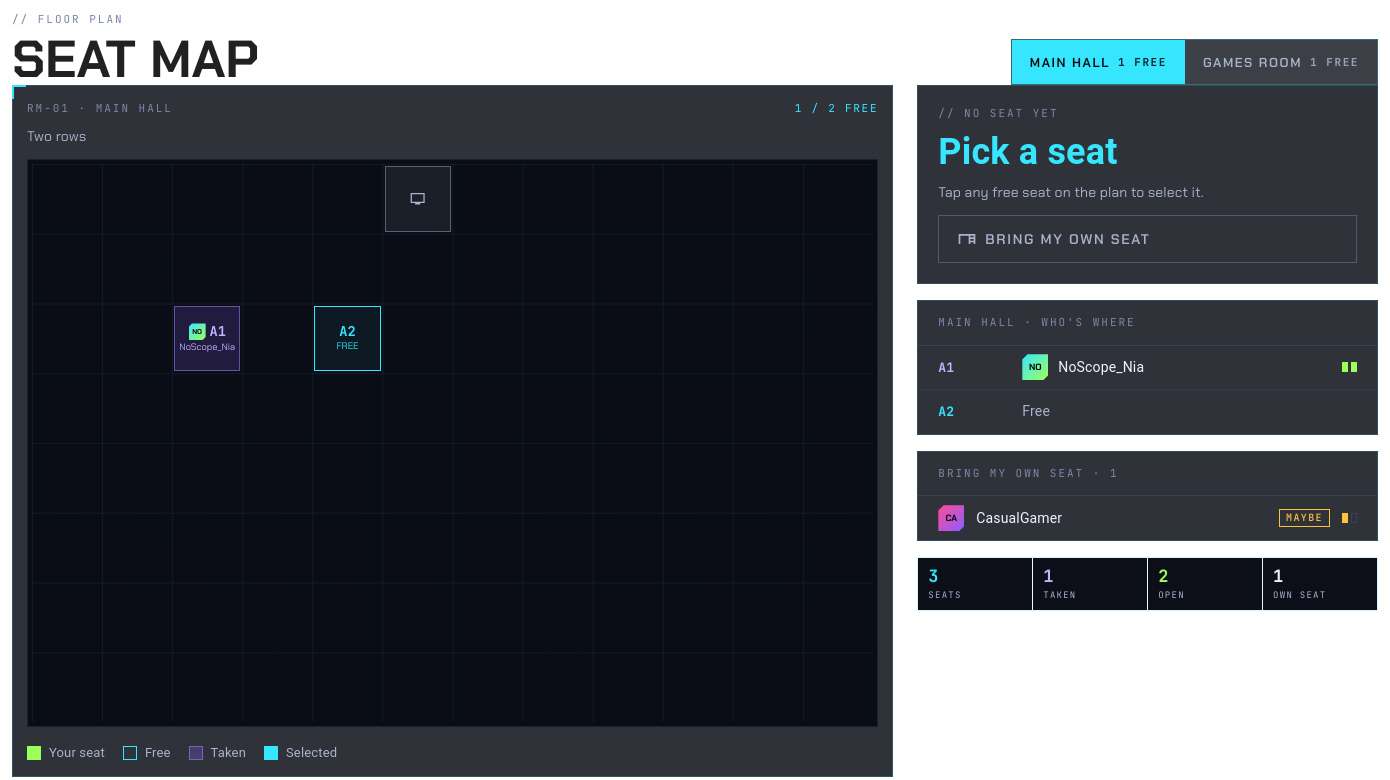
EventSeatMap › shows the server's reason when a claim is refused
Click the button with aria-label "A2, free" at (347, 339), box [314,306,380,371]
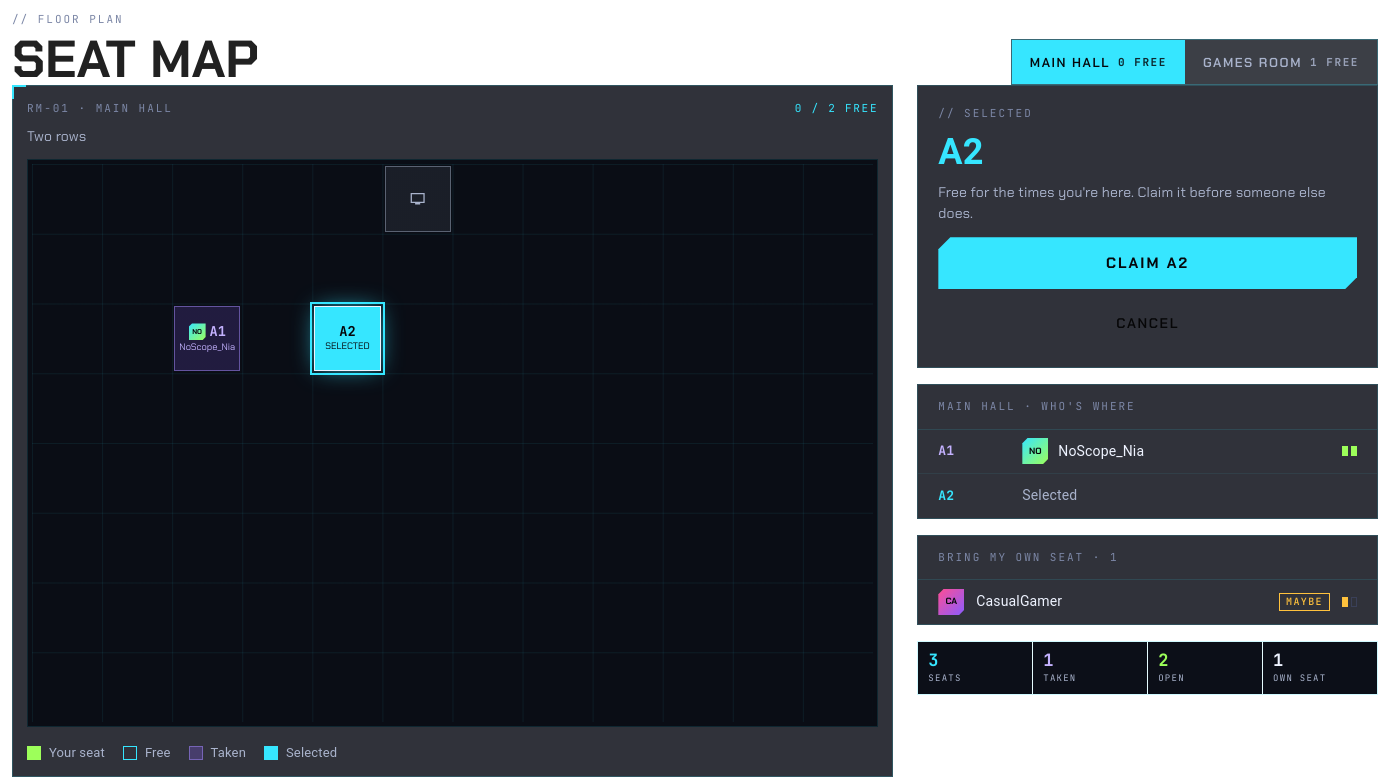
Click the button "Claim A2" at (1148, 263), box [938,237,1357,289]
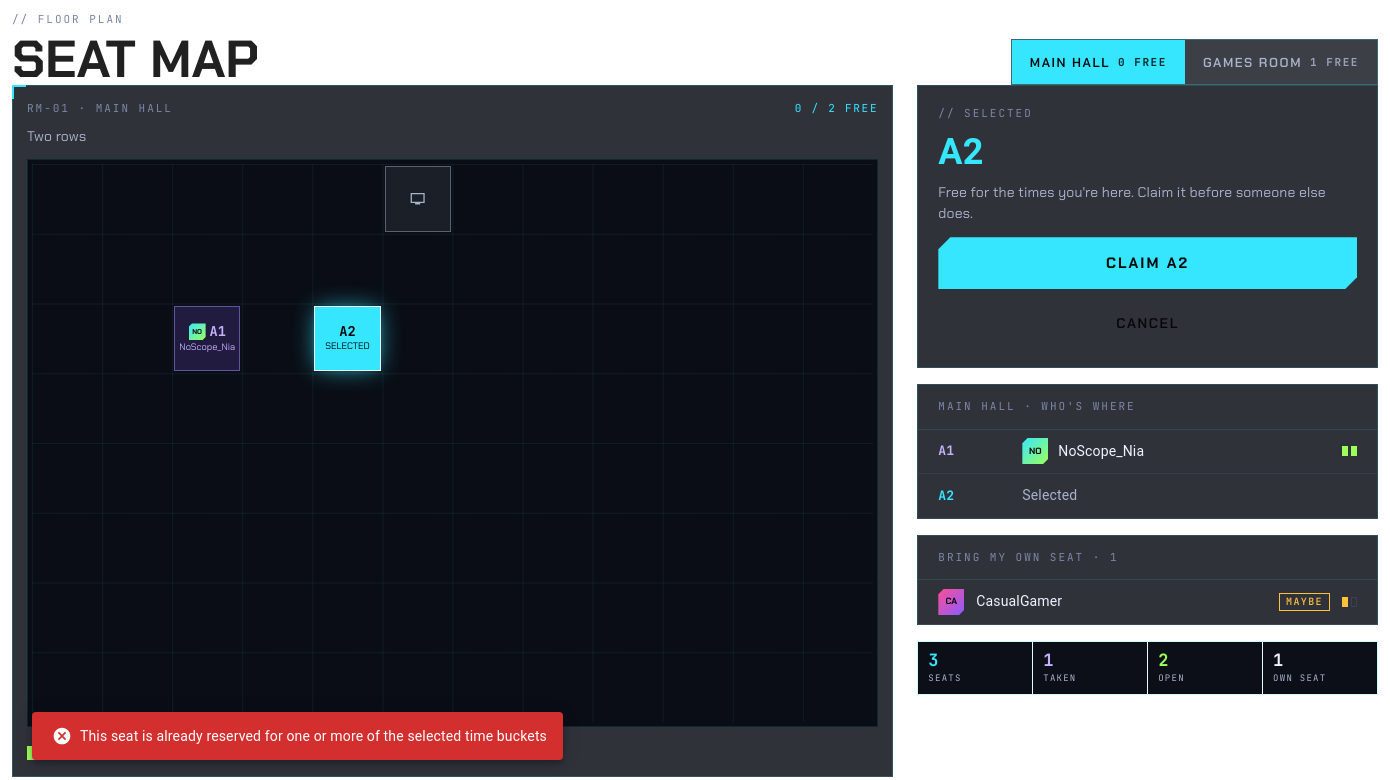
Expected: the text "This seat is already reserved for one or more of the selected time buckets" is shown, [52,726,547,746]
